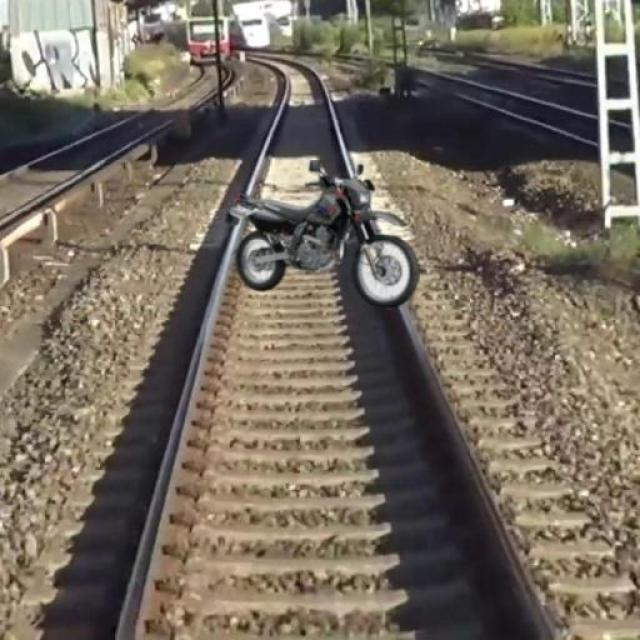vehicle: (221, 158, 426, 308)
